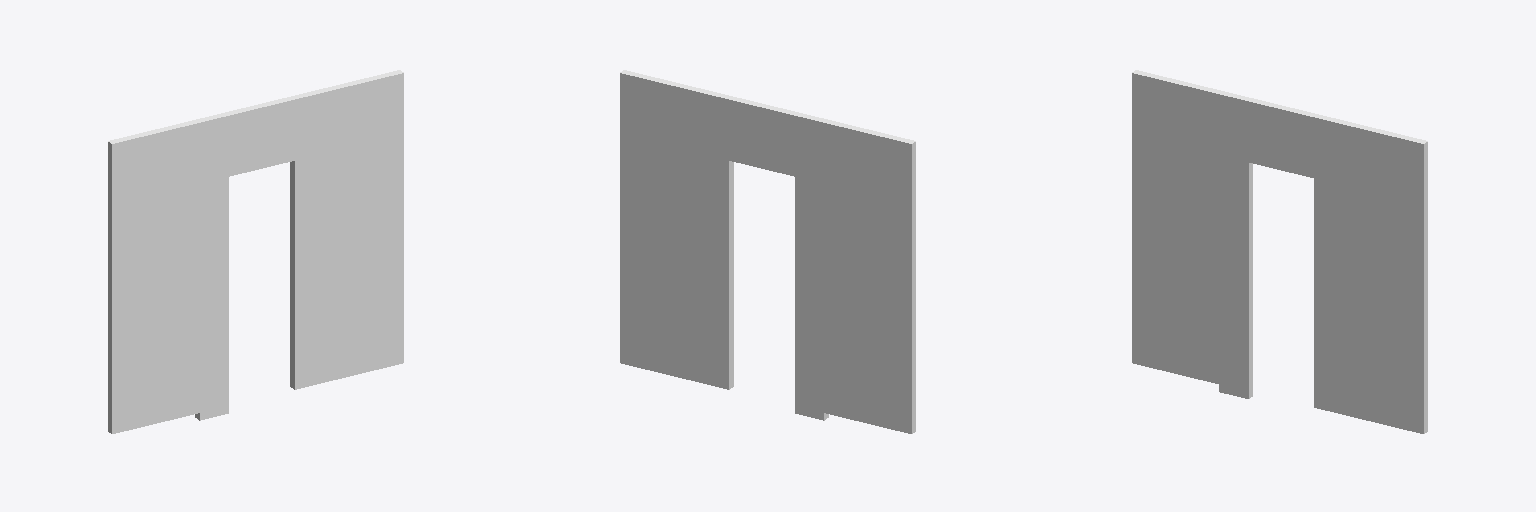
File: Livingroom-2.obj
The picture shows the model from 3 angles: view 1: azimuth 30°, elevation 25°; view 2: azimuth 150°, elevation 25°; view 3: azimuth 330°, elevation 25°; orthographic projection.
Visible parts, largest first — view 1: object 1; view 2: object 1; view 3: object 1.
Part boxes in pixels (bbox=[...]): object 1: bbox=[108, 70, 403, 433]; object 1: bbox=[620, 70, 915, 433]; object 1: bbox=[1132, 70, 1427, 433].
Bounding box in the file's own units: 4 × 3.9 × 0.1.